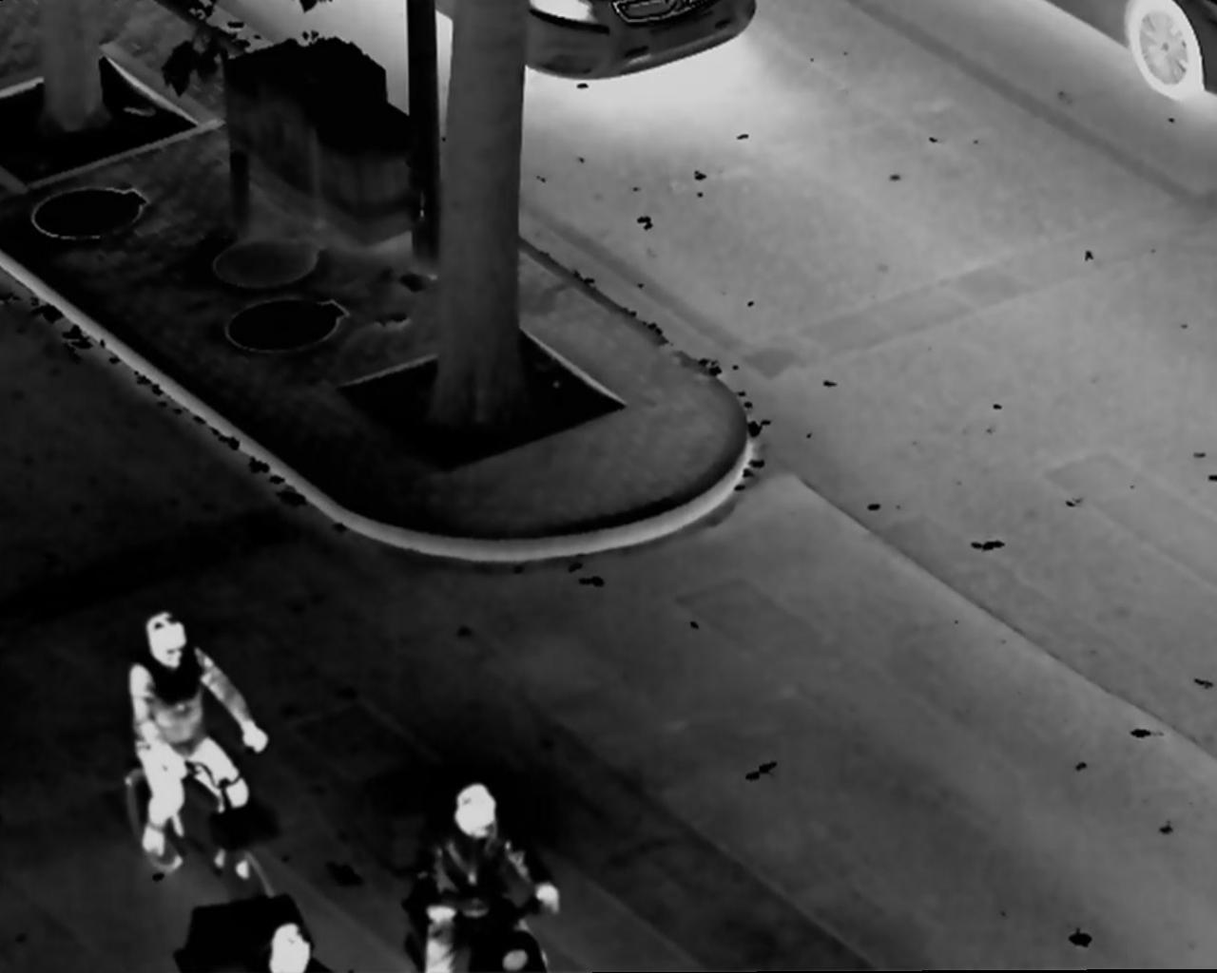person: (123, 600, 265, 881), (427, 773, 566, 973), (261, 922, 327, 973)
